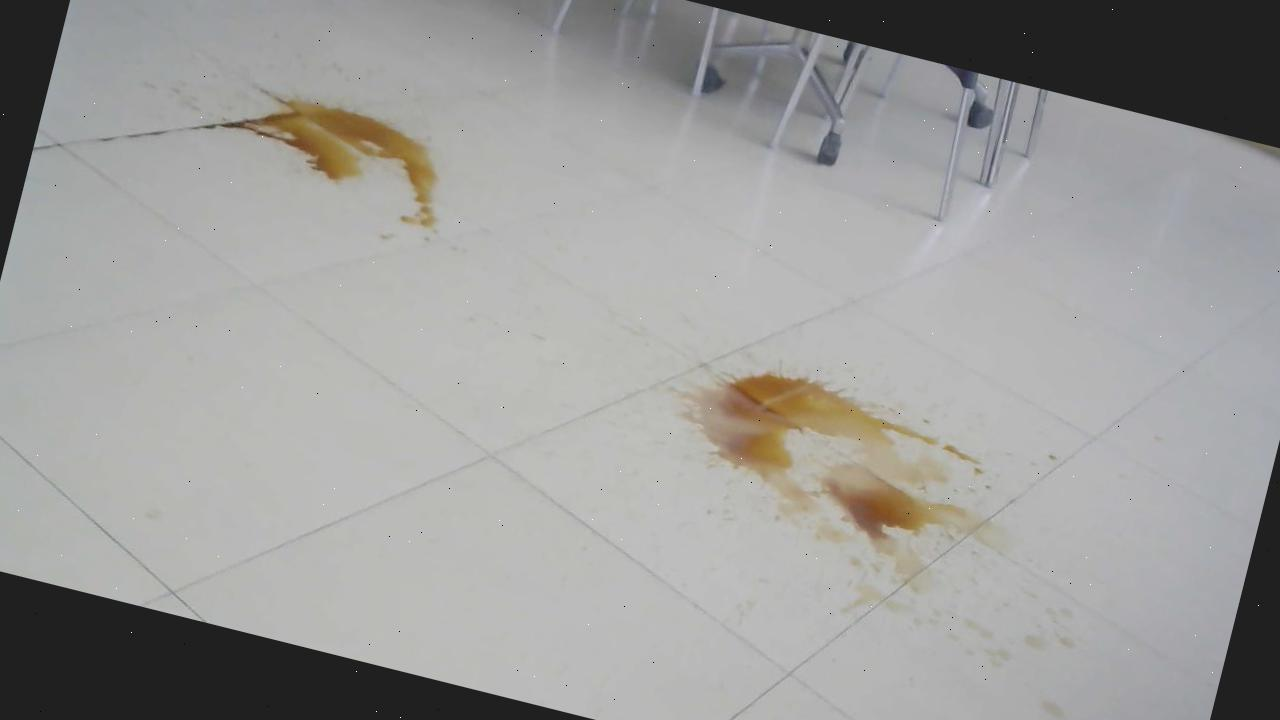dirty_floor: (603, 318, 1068, 632), (187, 55, 453, 252)
